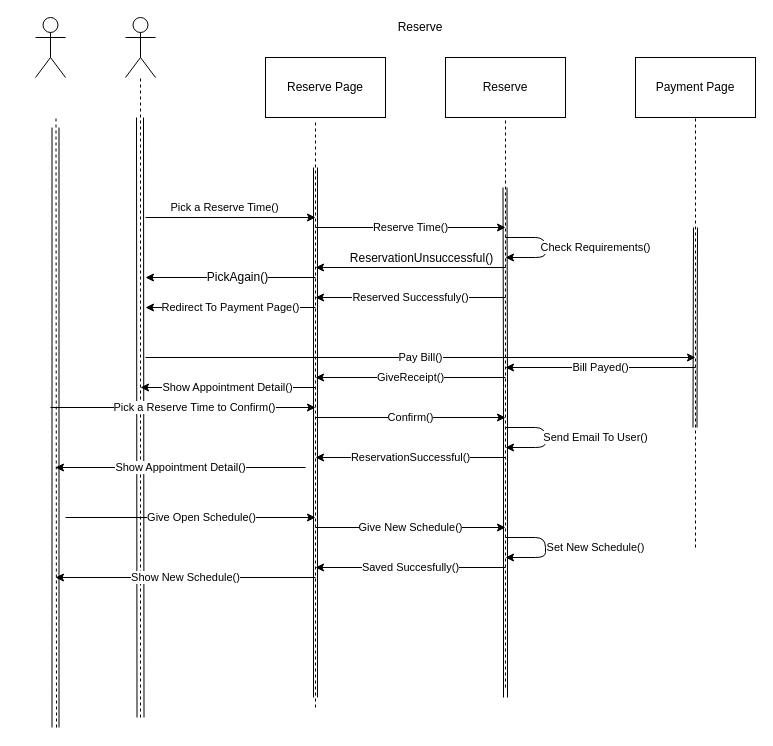
Some shapes in this 773 by 746 pixel diagram are drawn without their labels. Each missing label, with the box of its shape:
Patient: (124, 16, 156, 78)
Psychologist: (34, 16, 66, 78)
